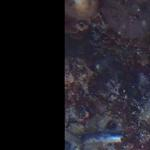dead: (65, 1, 148, 148)
